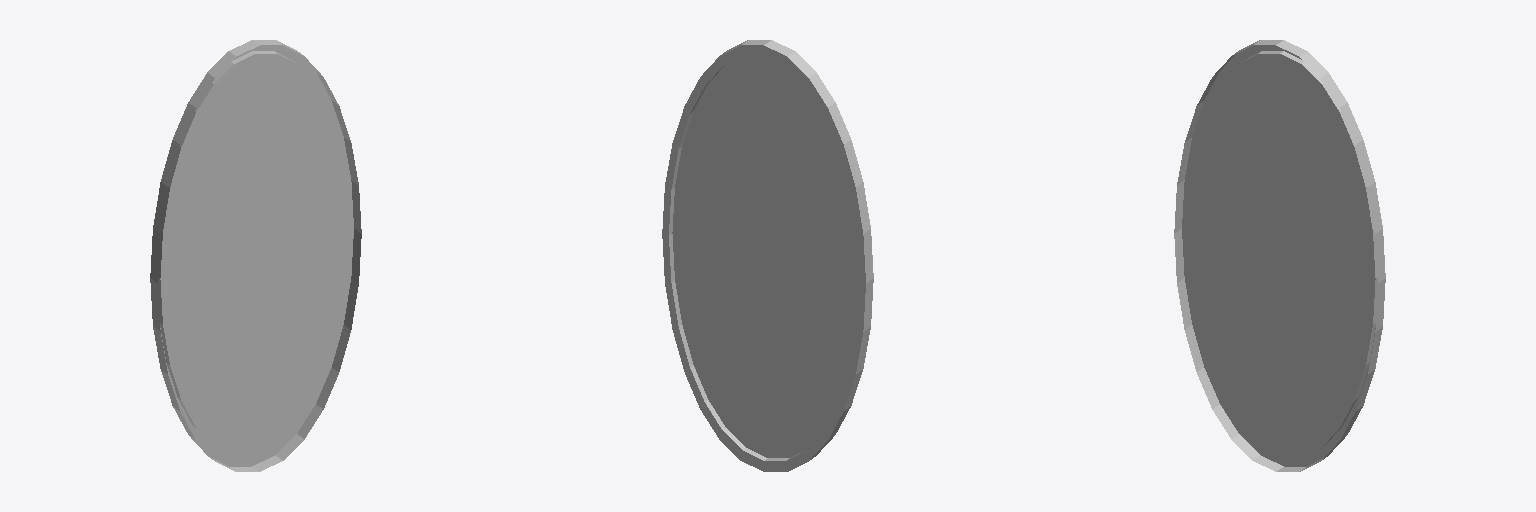
The model's file is Mirror4.obj.
The picture shows the model from 3 angles: view 1: azimuth 30°, elevation 25°; view 2: azimuth 150°, elevation 25°; view 3: azimuth 330°, elevation 25°; orthographic projection.
Visible parts, largest first — view 1: Mirror4; view 2: Mirror4; view 3: Mirror4.
Part boxes in pixels (bbox=[...]): Mirror4: bbox=[150, 40, 361, 471]; Mirror4: bbox=[662, 40, 873, 471]; Mirror4: bbox=[1174, 40, 1385, 471].
Size of the model in its own units: 0.6122 by 1.22 by 0.04.